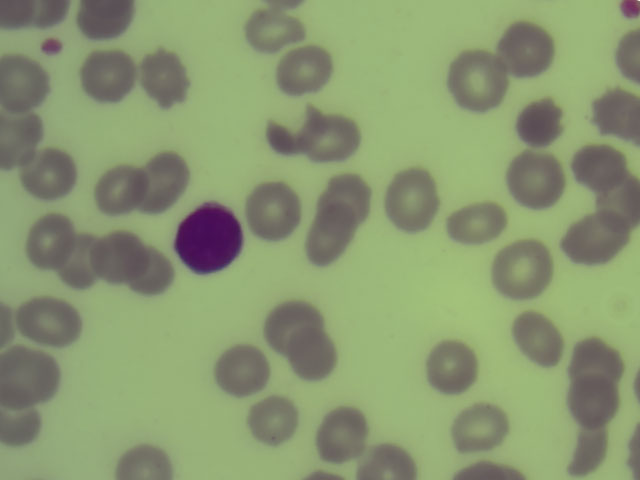Platlets: (41, 41, 67, 55)
RBC: (483, 238, 555, 303), (558, 211, 630, 267), (1, 350, 64, 411), (452, 50, 508, 111), (304, 207, 359, 268), (423, 339, 485, 393), (19, 301, 84, 350), (390, 172, 441, 234), (145, 150, 191, 218), (247, 185, 302, 241), (260, 299, 326, 345), (1, 52, 52, 110), (504, 23, 557, 77), (509, 157, 565, 208), (452, 401, 509, 451), (562, 379, 622, 426), (314, 409, 368, 461), (215, 346, 270, 397), (139, 51, 190, 105), (246, 397, 304, 444), (287, 328, 338, 381), (512, 316, 567, 365), (279, 49, 337, 94), (26, 215, 72, 271), (568, 338, 624, 383), (100, 233, 145, 288), (310, 112, 361, 160), (1, 105, 40, 167), (359, 443, 424, 480), (85, 52, 133, 102), (447, 205, 508, 244), (596, 89, 640, 143), (27, 151, 75, 200), (99, 165, 147, 214), (577, 140, 625, 189), (239, 16, 305, 51), (276, 109, 322, 158), (78, 1, 140, 37), (519, 100, 567, 146), (328, 171, 373, 220), (600, 177, 640, 231), (1, 405, 48, 449), (574, 423, 609, 477), (118, 449, 177, 480), (64, 236, 97, 289), (144, 248, 176, 295), (618, 33, 640, 82), (30, 2, 74, 26), (1, 1, 30, 29), (626, 423, 640, 478), (1, 302, 18, 345), (615, 3, 640, 22), (263, 1, 305, 11), (304, 471, 345, 480), (632, 369, 640, 405)
WBC: (172, 205, 247, 276)
